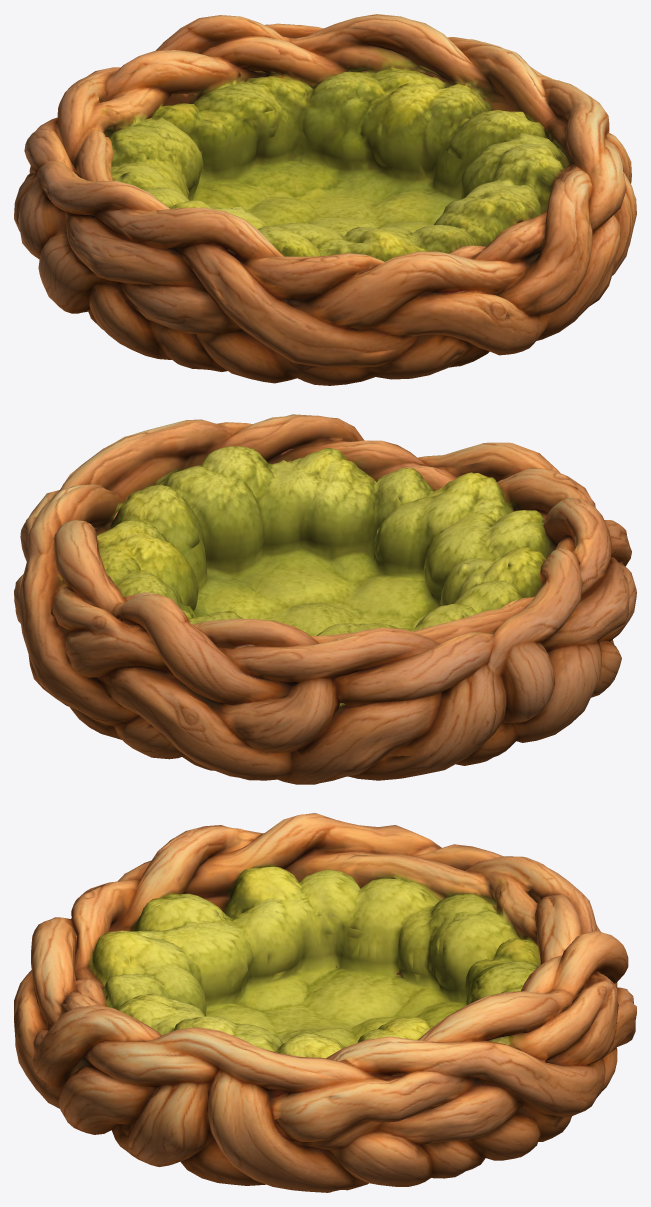
Rendered from moss-rest-nest.glb.
3 views of the same model, one above another, from view 1: azimuth 30°, elevation 25°; view 2: azimuth 150°, elevation 25°; view 3: azimuth 270°, elevation 25° (orthographic). The views are drawn at different scales.
Visible parts, largest first — view 1: tripo_node_d4f3e4dd-53d8-41f2-8f91-8ba0e5a19c01; view 2: tripo_node_d4f3e4dd-53d8-41f2-8f91-8ba0e5a19c01; view 3: tripo_node_d4f3e4dd-53d8-41f2-8f91-8ba0e5a19c01.
Part boxes in pixels (x1,y1,x2,y2): tripo_node_d4f3e4dd-53d8-41f2-8f91-8ba0e5a19c01: (14, 14, 636, 385); tripo_node_d4f3e4dd-53d8-41f2-8f91-8ba0e5a19c01: (14, 414, 636, 784); tripo_node_d4f3e4dd-53d8-41f2-8f91-8ba0e5a19c01: (14, 813, 636, 1192).
Bounding box in the file's own units: 0.9779 × 0.2851 × 0.9779.
1 material, 1 textured.
